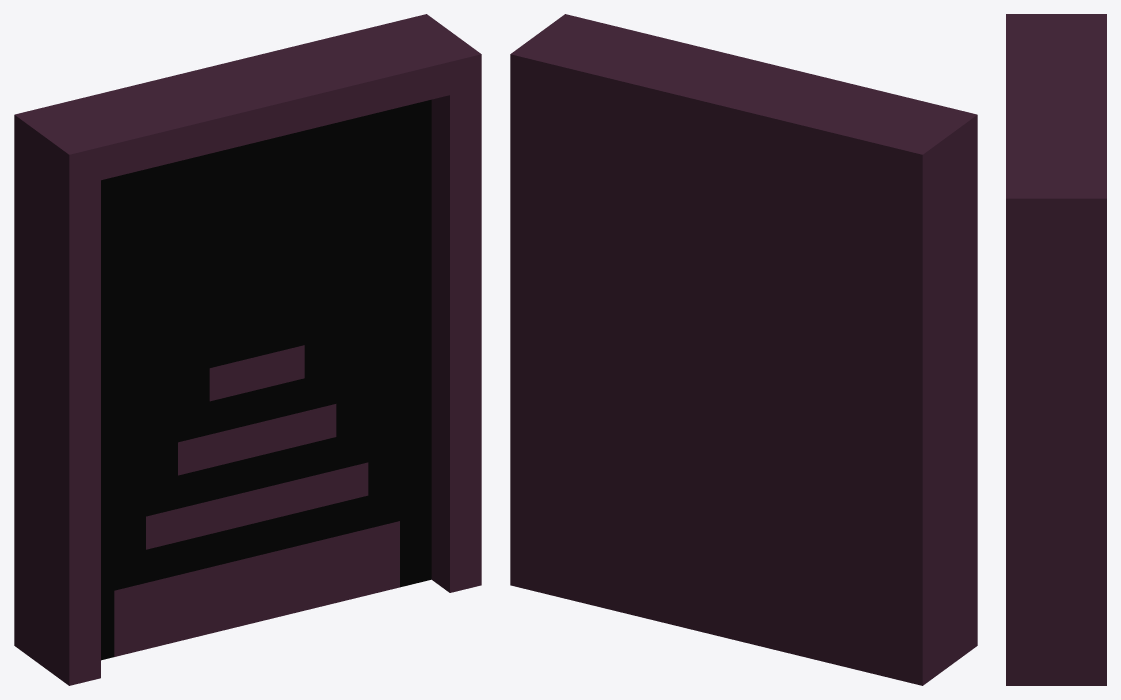
The model's file is dungeon_c_a_entrance_c.obj.
The picture shows the model from 3 angles, left to right: view 1: azimuth 30°, elevation 25°; view 2: azimuth 150°, elevation 25°; view 3: azimuth 270°, elevation 25°; orthographic projection. The views are drawn at different scales.
Size of the model in its own units: 1.3 by 1.6 by 0.3.
Materials: 1 (1 with a texture image).
